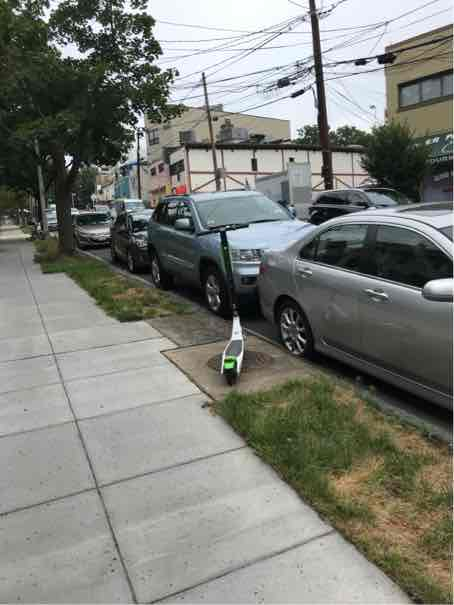scooter: (197, 219, 267, 392)
